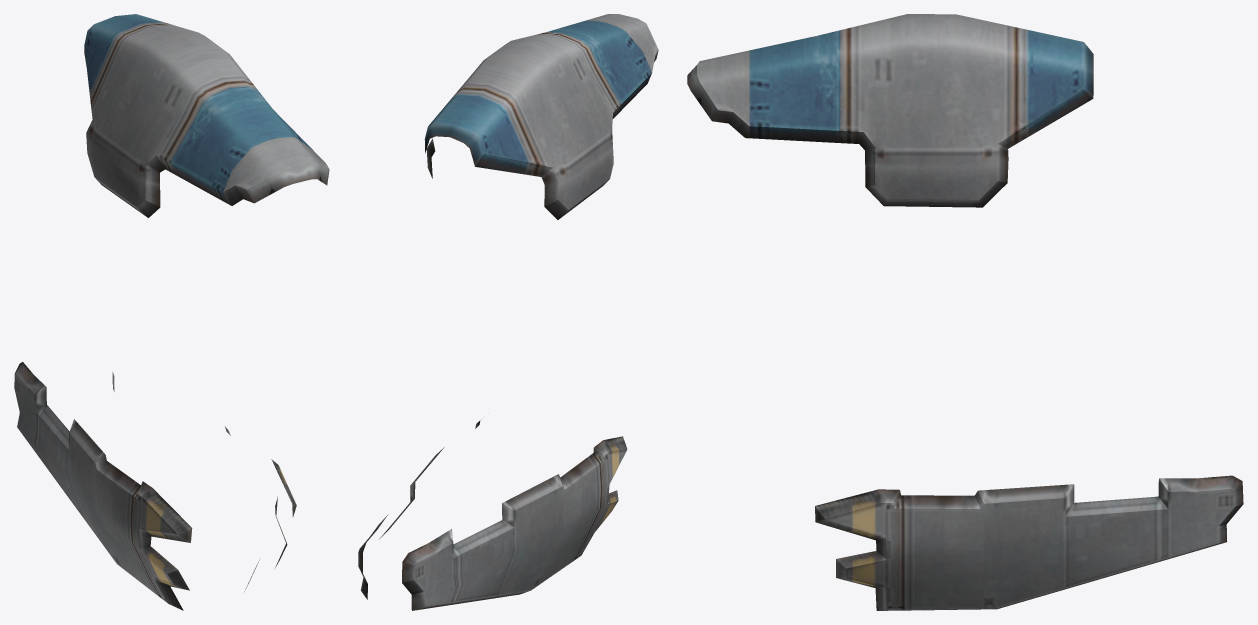
Rendered from yao_defense_platform_01_t1.glb.
3 renders of one model, left to right at view 1: azimuth 30°, elevation 25°; view 2: azimuth 150°, elevation 25°; view 3: azimuth 270°, elevation 25°, orthographic. The views are drawn at different scales.
Parts seen in each view (by area): view 1: yao_defense_platform_01_t1_LOD0; view 2: yao_defense_platform_01_t1_LOD0; view 3: yao_defense_platform_01_t1_LOD0.
Boxes of the visible parts, <box> form: yao_defense_platform_01_t1_LOD0: <box>14,14,329,610</box>; yao_defense_platform_01_t1_LOD0: <box>358,14,658,610</box>; yao_defense_platform_01_t1_LOD0: <box>687,14,1243,610</box>.
Size of what is drawn, in the model's own units: 0.7662 by 2.73 by 2.4.
Materials: 1 (1 with a texture image).
